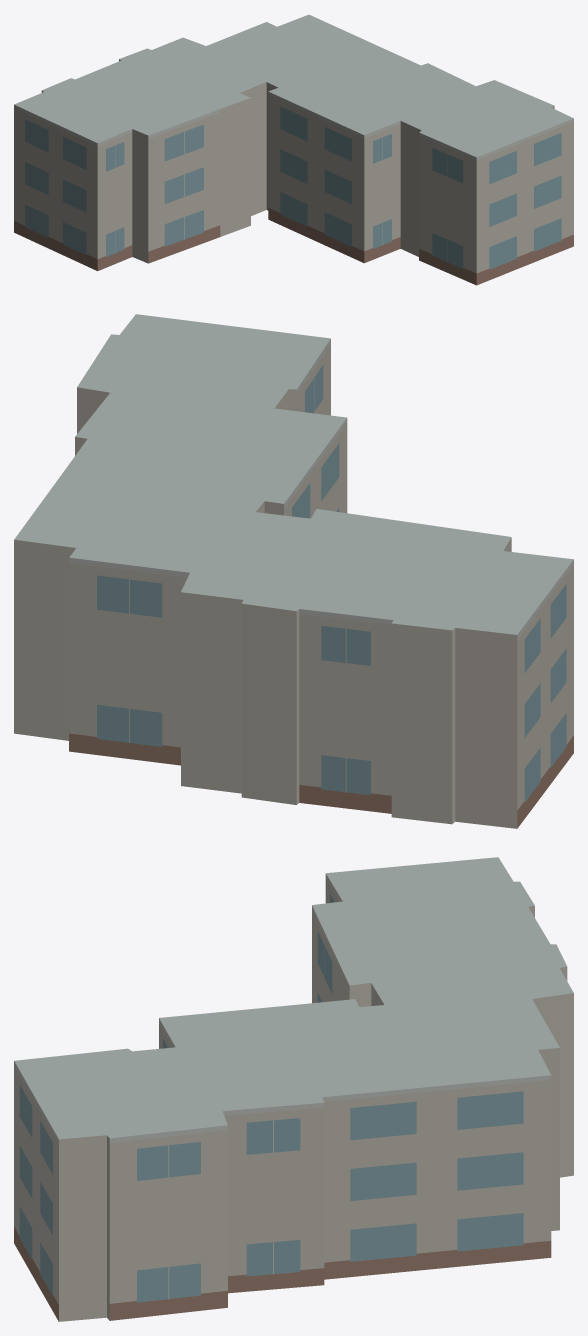
The model's file is survey-upis-32565334.glb.
3 views of the same model, one above another, from view 1: azimuth 30°, elevation 25°; view 2: azimuth 150°, elevation 25°; view 3: azimuth 270°, elevation 25° (orthographic). The views are drawn at different scales.
Parts seen in each view (by area): view 1: survey-upis-32565334.tmp; view 2: survey-upis-32565334.tmp; view 3: survey-upis-32565334.tmp.
Part boxes in pixels (left/top/right/bottom): survey-upis-32565334.tmp: left=14, top=14, right=573, bottom=285; survey-upis-32565334.tmp: left=14, top=314, right=573, bottom=828; survey-upis-32565334.tmp: left=14, top=857, right=573, bottom=1321.
Size of the model in its own units: 30.36 by 9.15 by 25.45.
